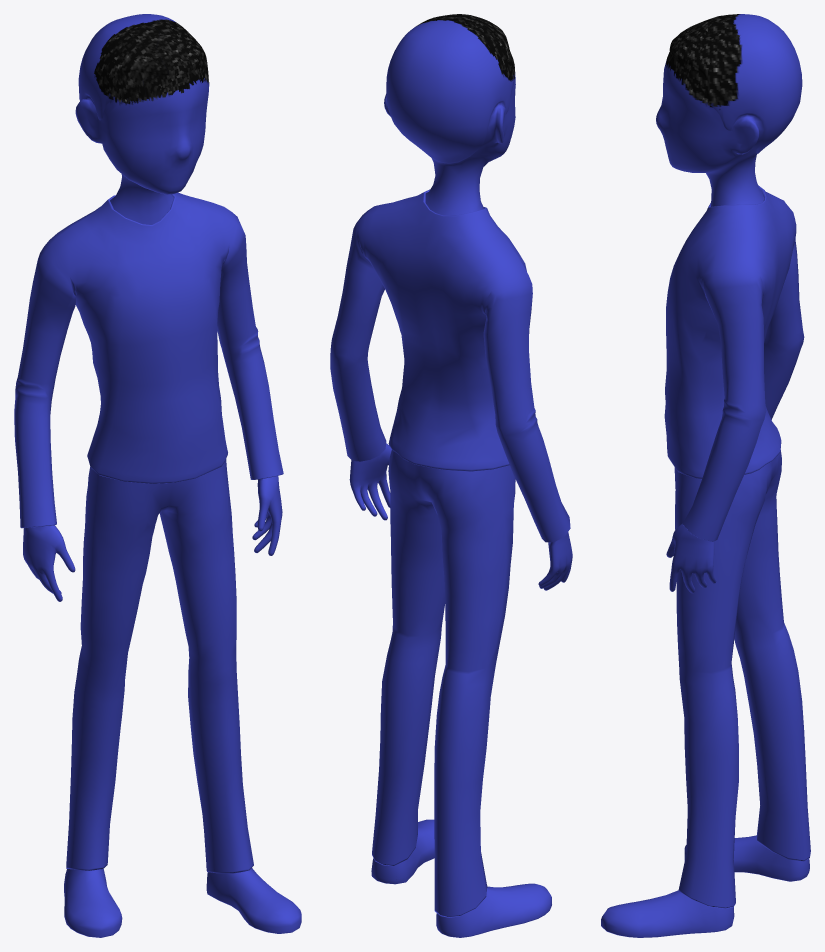
Rendered from boy.glb.
The picture shows the model from 3 angles, left to right: view 1: azimuth 30°, elevation 25°; view 2: azimuth 150°, elevation 25°; view 3: azimuth 270°, elevation 25°; orthographic projection.
Visible parts, largest first — view 1: mesh_id27; view 2: mesh_id27; view 3: mesh_id27.
Part boxes in pixels (x1,y1,x2,y2): mesh_id27: [14, 14, 301, 937]; mesh_id27: [330, 14, 572, 937]; mesh_id27: [601, 14, 810, 937].
Size of the model in its own units: 0.108 by 0.3814 by 0.0836.
Materials: 1 (1 with a texture image).
